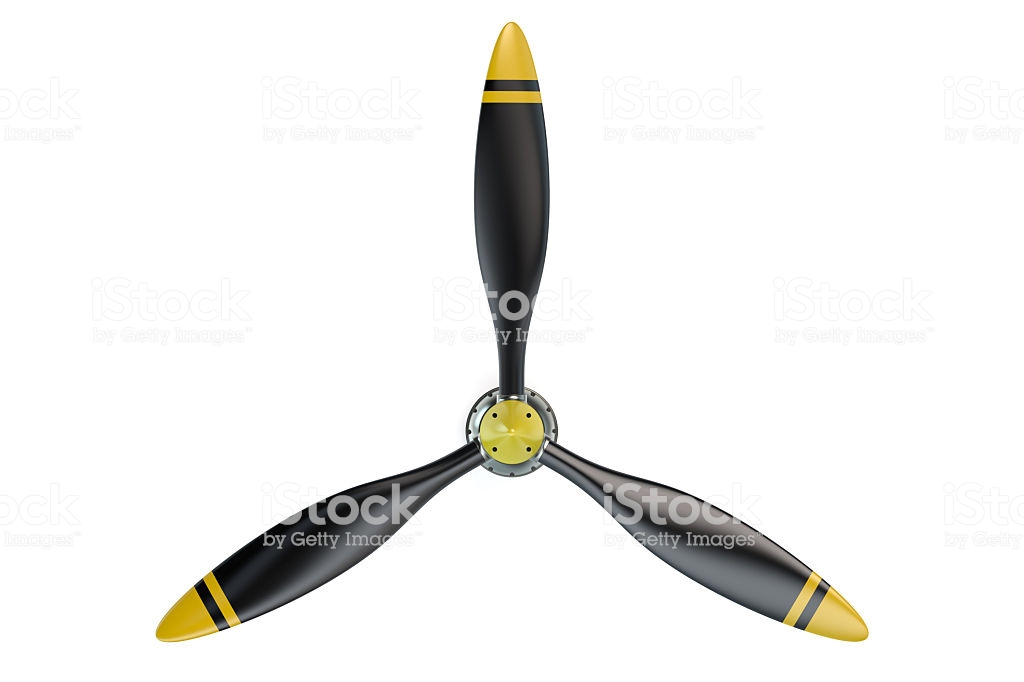Propeller: (134, 10, 886, 657)
